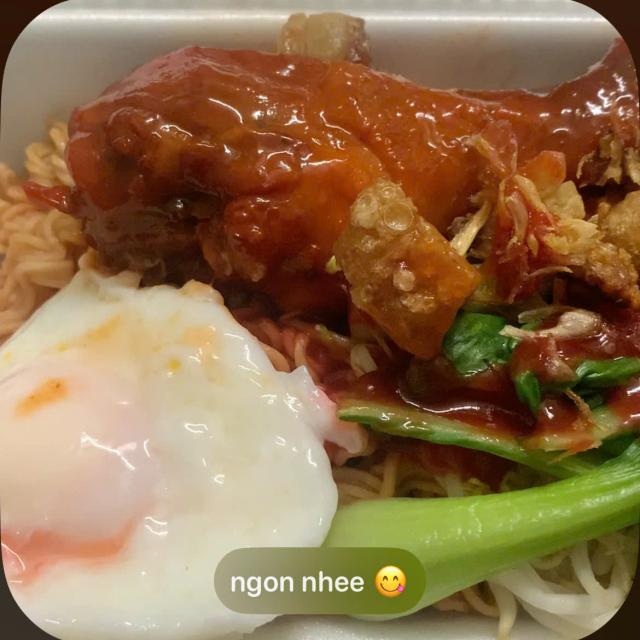ga_chien: (75, 58, 640, 306)
